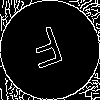F: (25, 25, 70, 79)
